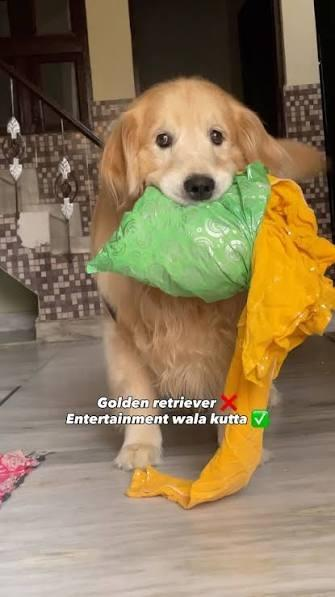adult_dog: (88, 75, 332, 473)
